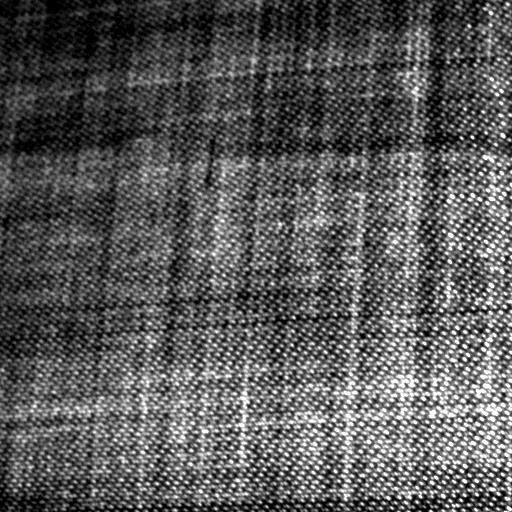fabric_perfect: (0, 3, 508, 511)
